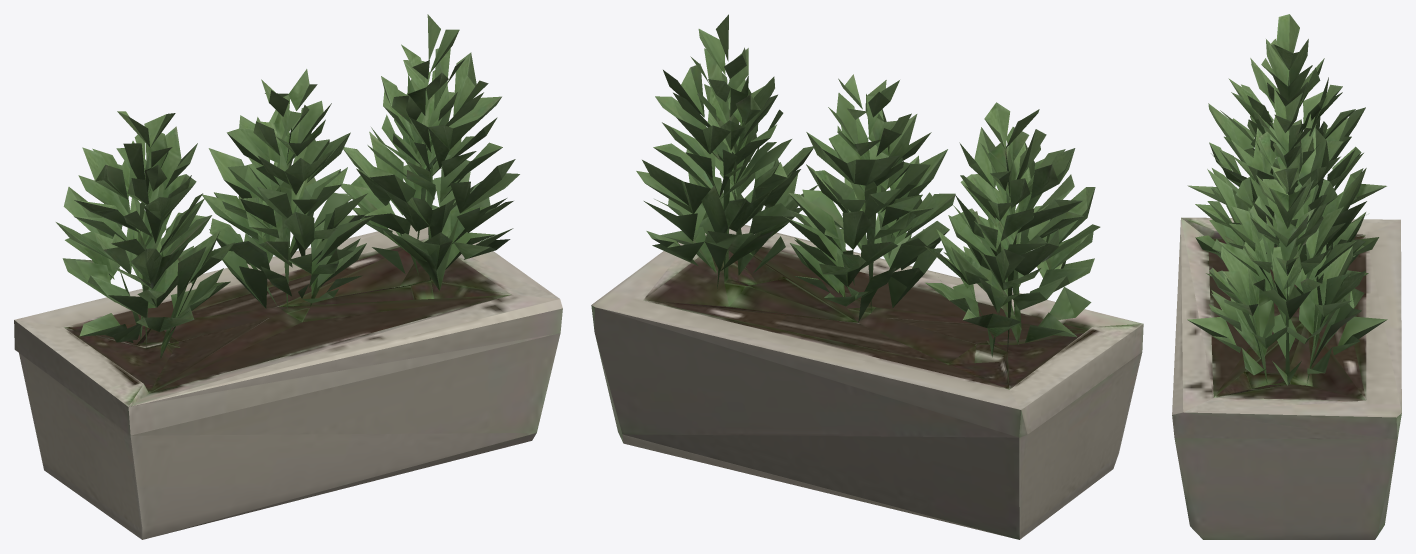
File: stone_planter.glb
3 views of the same model, side by side, from view 1: azimuth 30°, elevation 25°; view 2: azimuth 150°, elevation 25°; view 3: azimuth 270°, elevation 25° (orthographic). The views are drawn at different scales.
Parts seen in each view (by area): view 1: Mesh_0; view 2: Mesh_0; view 3: Mesh_0.
Boxes of the visible parts, x1,y1,x2,y2 form: Mesh_0: (14,14,562,539); Mesh_0: (591,14,1143,539); Mesh_0: (1172,14,1401,539).
Bounding box in the file's own units: 1.89 × 1.69 × 0.9297.
1 material, 1 textured.
